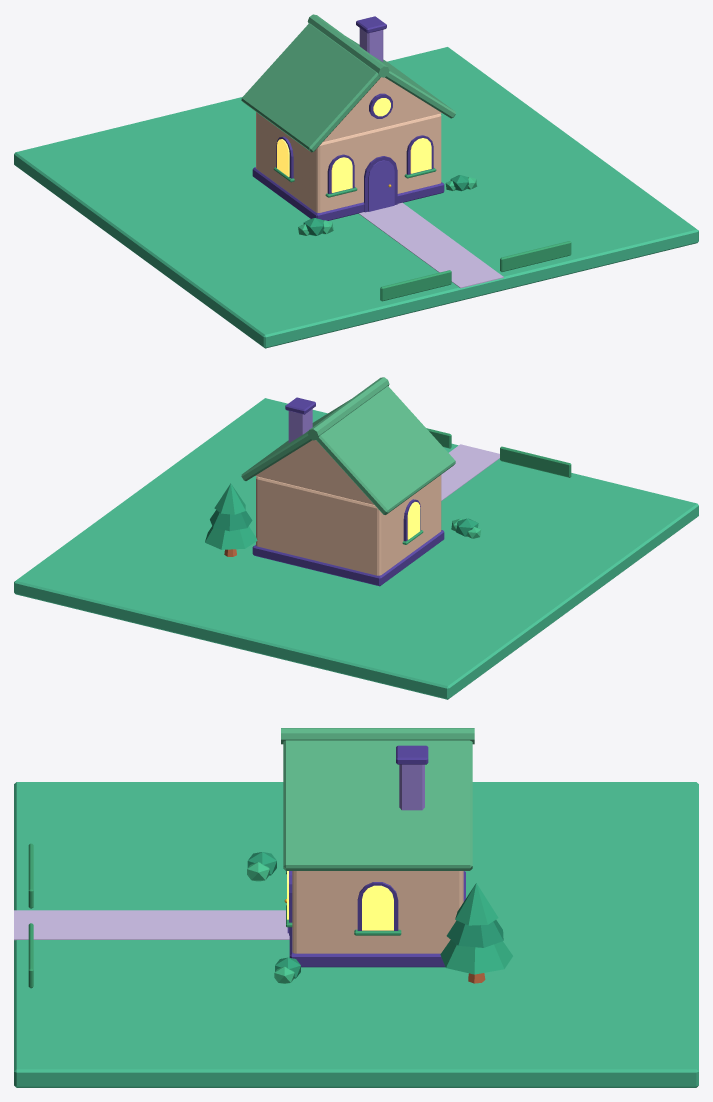
Rendered from bld_house_peach.glb.
3 views of the same model, one above another, from view 1: azimuth 30°, elevation 25°; view 2: azimuth 150°, elevation 25°; view 3: azimuth 270°, elevation 25° (orthographic). The views are drawn at different scales.
Visible parts, largest first — view 1: bld_house_peach; view 2: bld_house_peach; view 3: bld_house_peach.
Part boxes in pixels (x1,y1,x2,y2): bld_house_peach: (14,14,698,348); bld_house_peach: (14,377,698,699); bld_house_peach: (14,728,698,1087).
Size of the model in its own units: 16 by 5.57 by 16.
